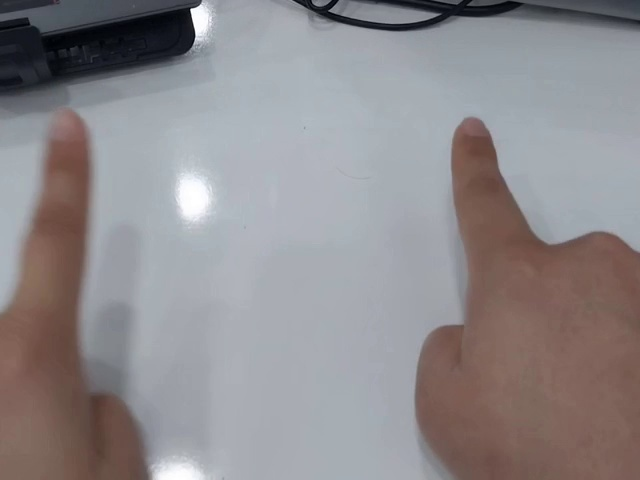fingers: (43, 108, 92, 172), (450, 115, 498, 165)
